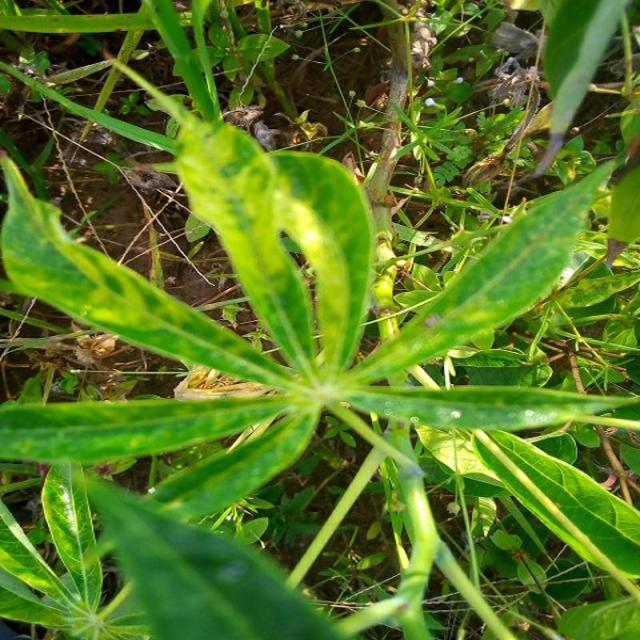cassava leaf: (0, 61, 638, 630)
